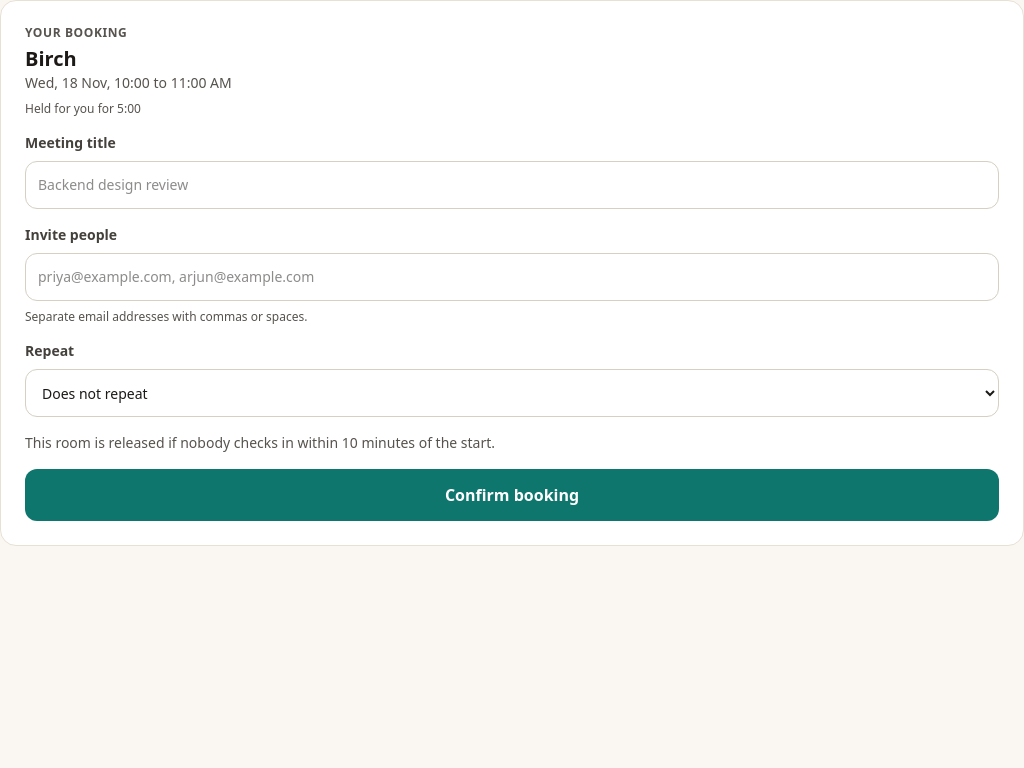
Test: BookingPanel › blocks more people than the room seats
Type "Sync" into the field labelled "Meeting title" at [512, 185], box [25,161,999,209]
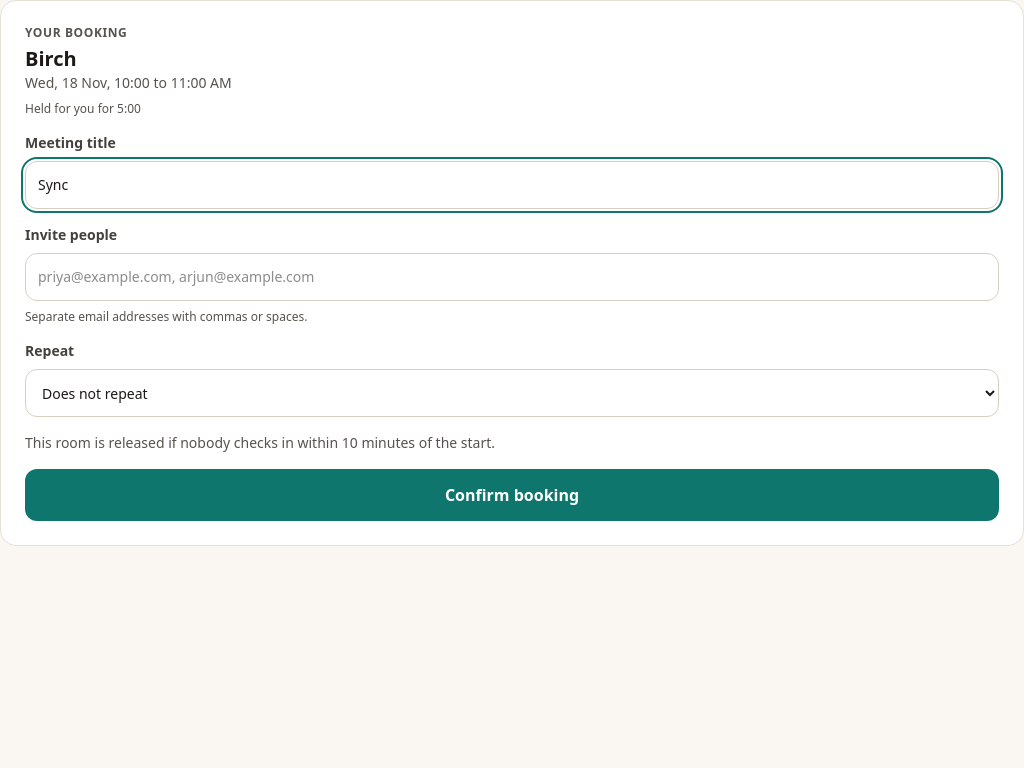
Type "a@x.com b@x.com c@x.com" into the field labelled "Invite people" at [512, 277], box [25,253,999,301]
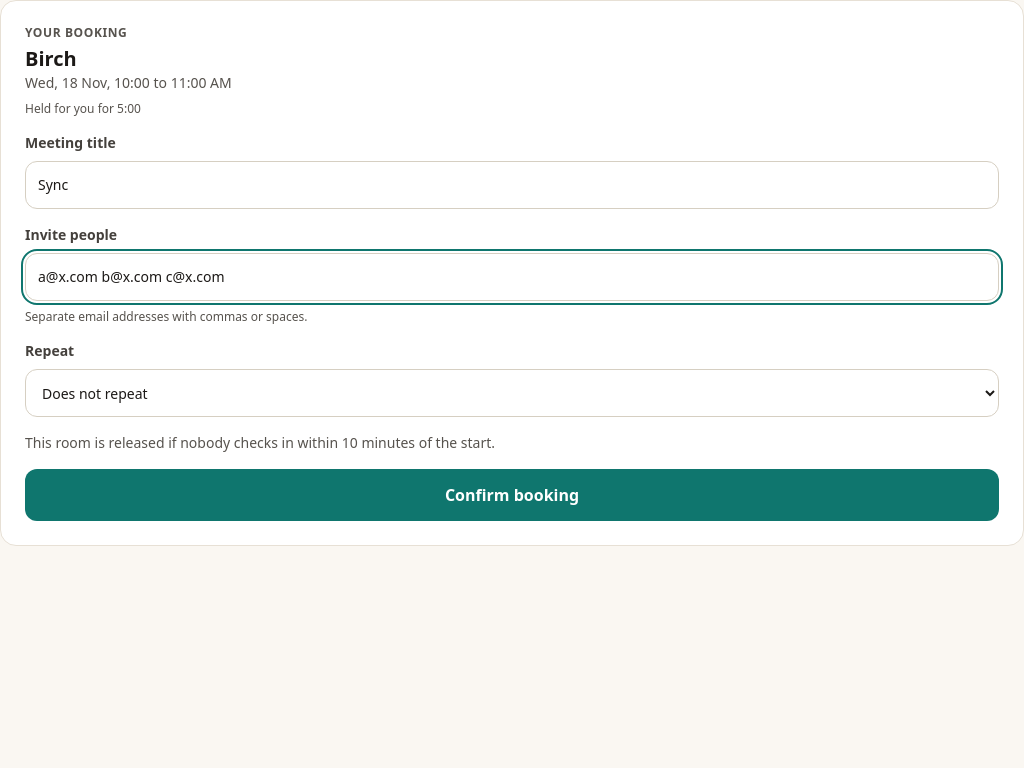
Click the button "Confirm booking" at [512, 495], box [25,469,999,521]
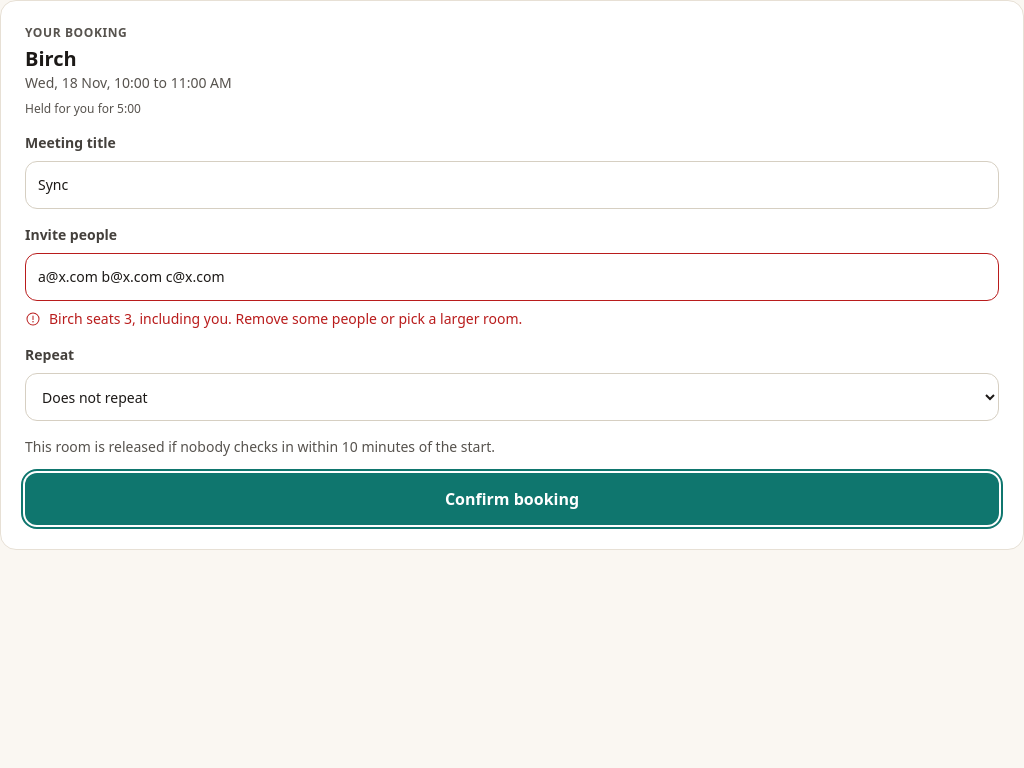
Expected: the text "Birch seats 3, including you. Remove some people or pick a larger room." is shown, [25,309,522,328]
